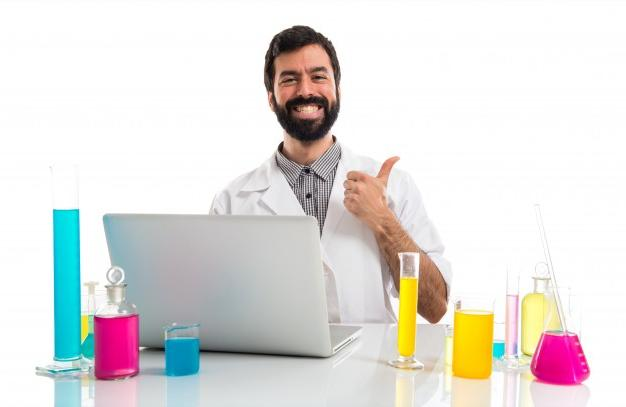thumbsup: (343, 156, 400, 208)
